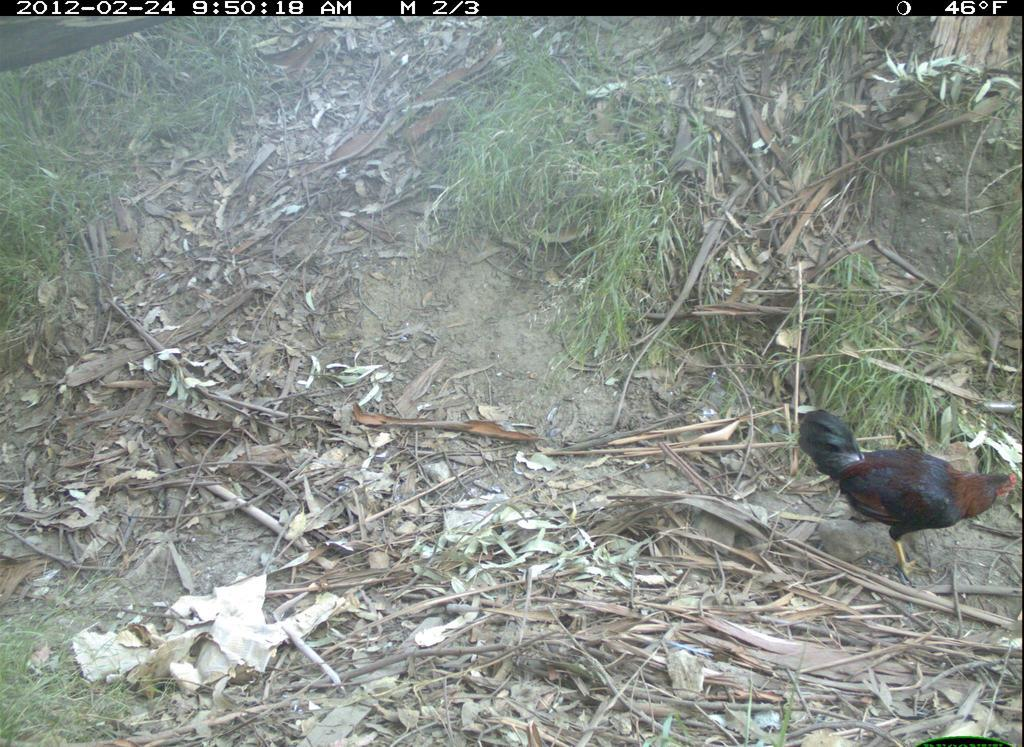bird: (794, 396, 1017, 584)
